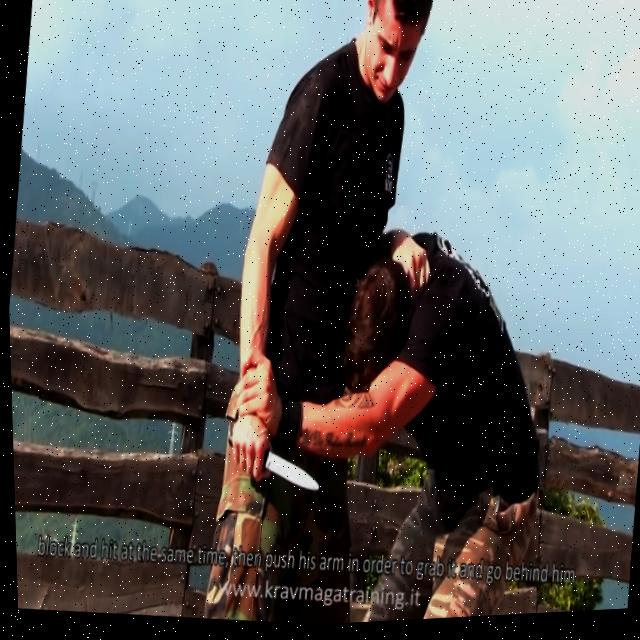knife: (257, 448, 320, 496)
